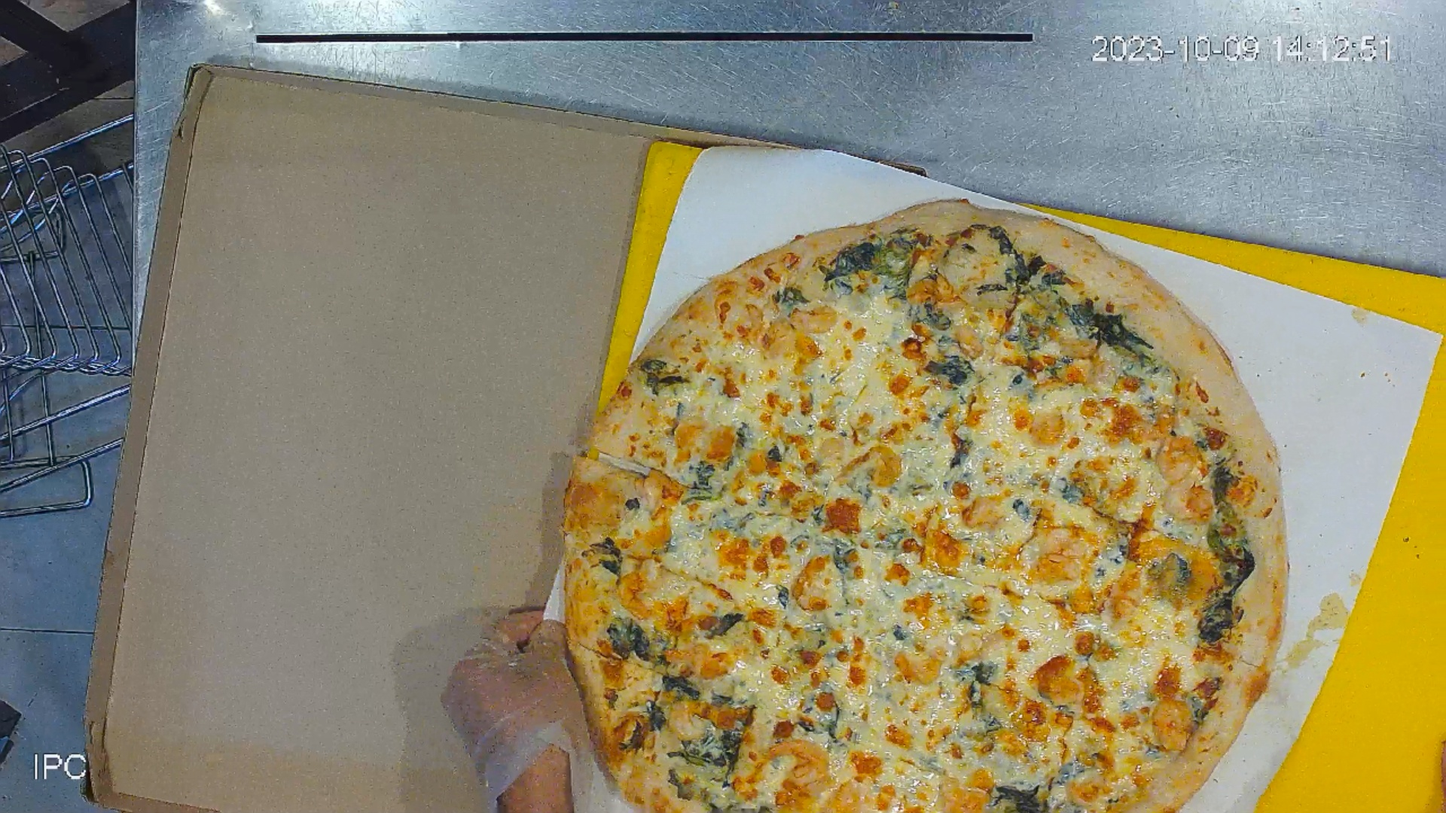bianca: (549, 195, 1285, 809)
